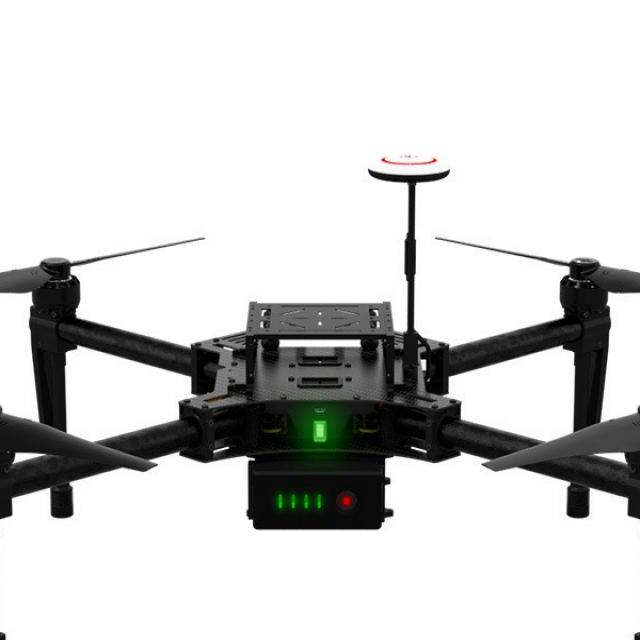drone: (0, 186, 640, 615)
